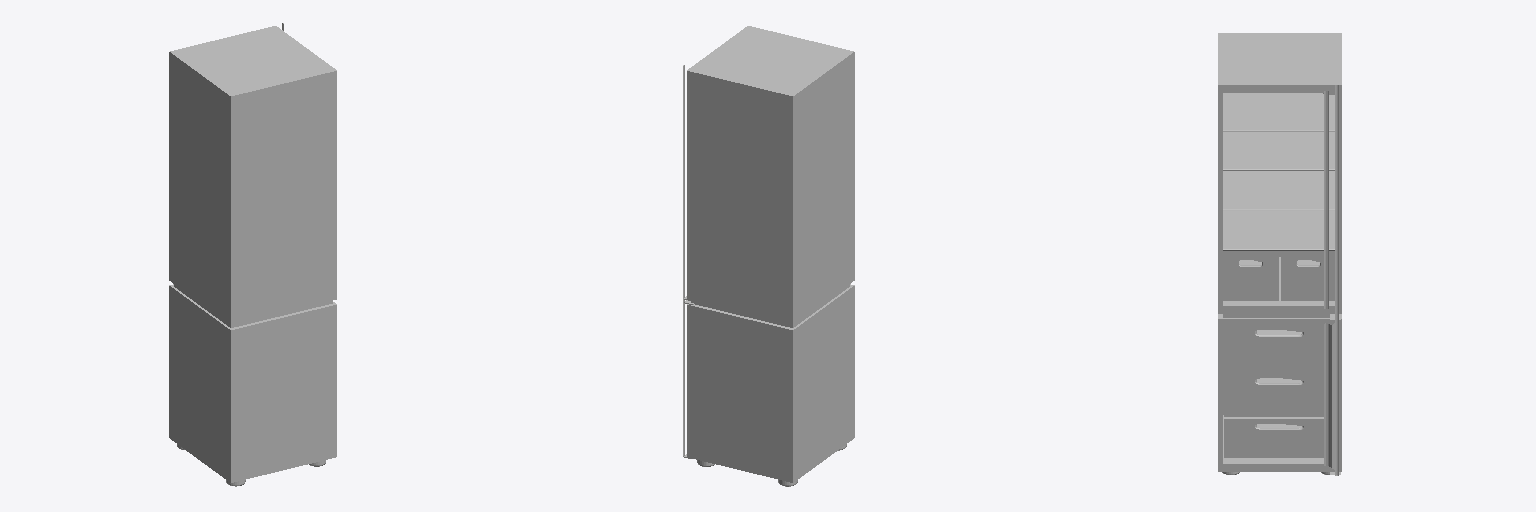
The model's file is Refrigerador.obj.
The picture shows the model from 3 angles: view 1: azimuth 30°, elevation 25°; view 2: azimuth 150°, elevation 25°; view 3: azimuth 270°, elevation 25°; orthographic projection.
Parts seen in each view (by area): view 1: polySurface78 Mesh; view 2: polySurface78 Mesh; view 3: polySurface78 Mesh.
Part boxes in pixels (x1,y1,x2,y2): polySurface78 Mesh: (169, 23, 336, 486); polySurface78 Mesh: (683, 26, 854, 486); polySurface78 Mesh: (1218, 33, 1341, 475).
Bounding box in the file's own units: 0.442 × 1.5 × 0.4208.